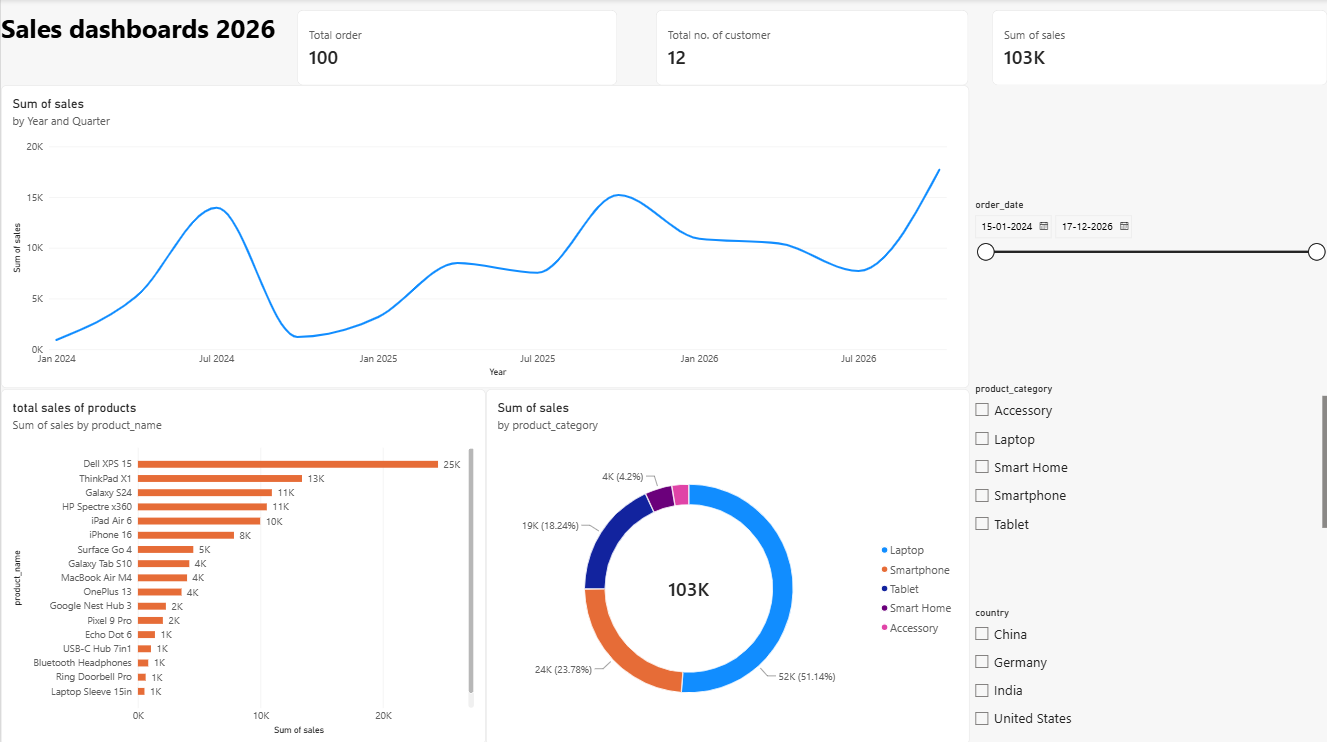

What the dashboard file says about the page in this screenshot:
{"tool":"powerbi","page":{"name":"Page 1","canvas":[1920,1080],"ordinal":0},"visuals":[{"type":"barChart","title":"total sales of products","fields":{"Category":["orders.product_name"],"Y":["Sum(orders.sales)"]},"box":[0,564,701.9,516.6],"z":0},{"type":"donutChart","fields":{"Category":["orders.product_category"],"Y":["Sum(orders.sales)"]},"box":[701.9,564,699.8,516.6],"z":1},{"type":"cardVisual","fields":{"Data":["CountNonNull(orders.order_id)"]},"box":[428.1,0,463.1,125.6],"z":2},{"type":"cardVisual","fields":{"Data":["CountNonNull(customers.customer_id)"]},"box":[948.9,0,452.8,125.6],"z":3},{"type":"cardVisual","fields":{"Data":["Sum(orders.sales)"]},"box":[1434.7,0,485.8,125.6],"z":4},{"type":"lineChart","fields":{"Category":["orders.order_date.Variation.Date Hierarchy.Year","orders.order_date.Variation.Date Hierarchy.Quarter","orders.order_date.Variation.Date Hierarchy.Month","orders.order_date.Variation.Date Hierarchy.Day"],"Y":["Sum(orders.sales)"]},"box":[0,125.6,1401.7,438.4],"z":5},{"type":"slicer","fields":{"Values":["customers.country"]},"box":[1401.7,862.4,518.7,218.2],"z":6},{"type":"slicer","fields":{"Values":["orders.product_category"]},"box":[1401.7,539.3,518.7,238.8],"z":7},{"type":"slicer","fields":{"Values":["orders.order_date"]},"box":[1401.7,273.8,518.7,177],"z":8},{"type":"textbox","box":[1401.7,878.9,105,12.3],"z":9},{"type":"textbox","box":[0,0,428.1,125.6],"z":10}]}

Visuals, with their boxes in screenshot pixels (x1, y1, x2, y2), scaled from the page's 1920x1080 canvas onto the 1327x742 screenshot:
"total sales of products" barChart: 0, 387, 485, 741
donutChart - orders.product_category x Sum(orders.sales): 485, 387, 969, 741
cardVisual - CountNonNull(orders.order_id): 296, 0, 616, 86
cardVisual - CountNonNull(customers.customer_id): 656, 0, 969, 86
cardVisual - Sum(orders.sales): 992, 0, 1326, 86
lineChart - orders.order_date.Variation.Date Hierarchy.Year x orders.order_date.Variation.Date Hierarchy.Quarter: 0, 86, 969, 387
slicer - customers.country: 969, 593, 1326, 741
slicer - orders.product_category: 969, 371, 1326, 535
slicer - orders.order_date: 969, 188, 1326, 310
textbox: 969, 604, 1041, 612
textbox: 0, 0, 296, 86
